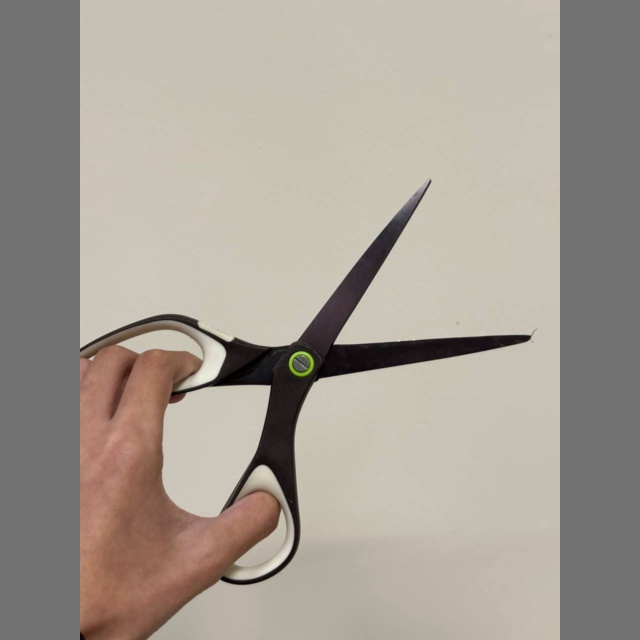scissor: (80, 180, 532, 584)
